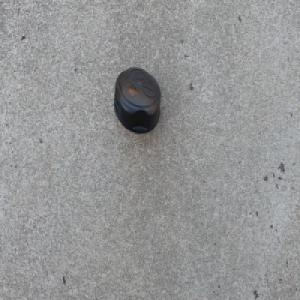FuelCap: (112, 65, 162, 137)
